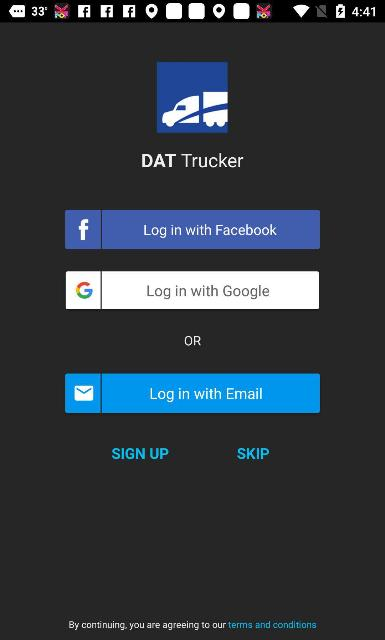Icon: (74, 385, 94, 401), (79, 218, 89, 240)
Image: (156, 62, 228, 134), (76, 282, 92, 300)
Text: (69, 620, 316, 630), (147, 284, 268, 300), (144, 224, 278, 238), (142, 152, 244, 168), (150, 388, 262, 402), (112, 448, 168, 460), (237, 447, 269, 459), (184, 336, 201, 346)
TextImageButton: (64, 373, 320, 413), (64, 210, 320, 248), (66, 271, 318, 309)
UpperTaskBar: (0, 0, 384, 22)
